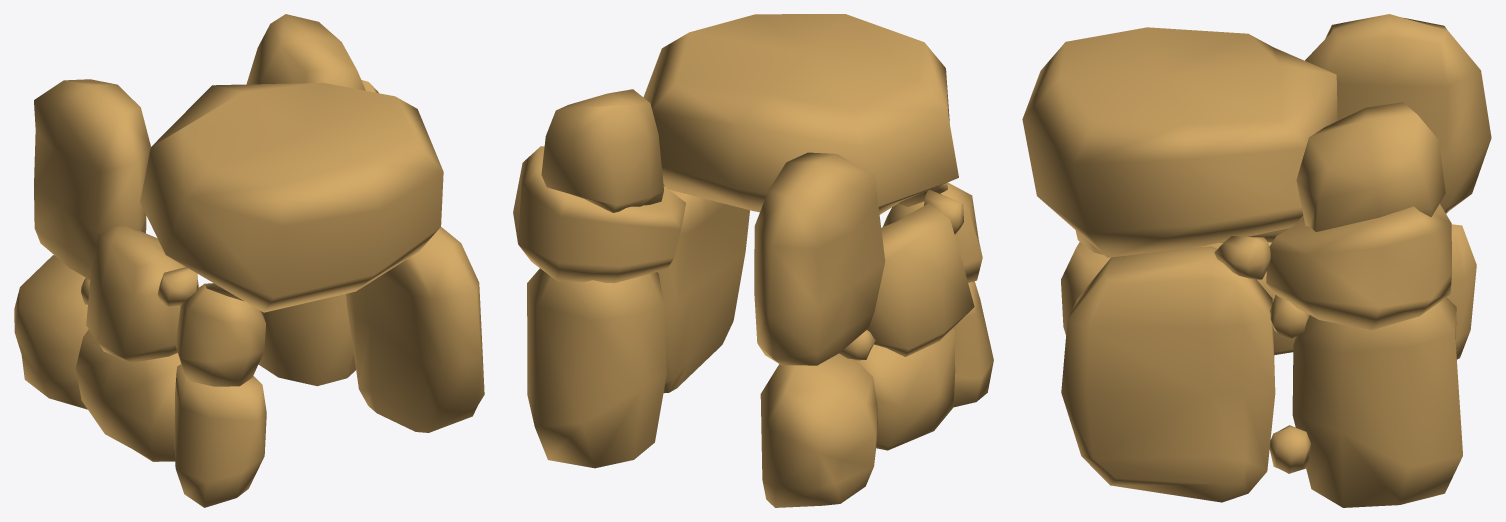
File: LOD1_passage_chelou.fbx
3 views of the same model, side by side, from view 1: azimuth 30°, elevation 25°; view 2: azimuth 150°, elevation 25°; view 3: azimuth 270°, elevation 25° (orthographic). The views are drawn at different scales.
Parts seen in each view (by area): view 1: passage_Chelou_LOD1; view 2: passage_Chelou_LOD1; view 3: passage_Chelou_LOD1.
Boxes of the visible parts, x1,y1,x2,y2 form: passage_Chelou_LOD1: [14, 14, 484, 507]; passage_Chelou_LOD1: [513, 14, 993, 507]; passage_Chelou_LOD1: [1022, 14, 1491, 507].
Bounding box in the file's own units: 1458 × 1326 × 1526.
